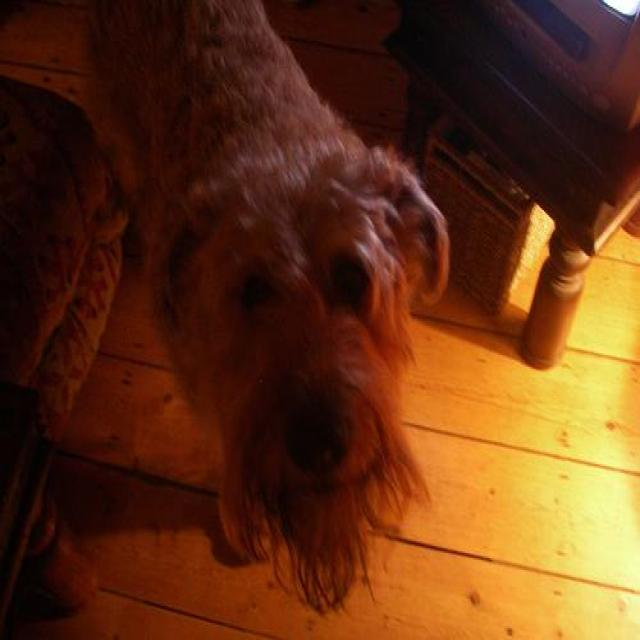Dog: (71, 46, 486, 626)
